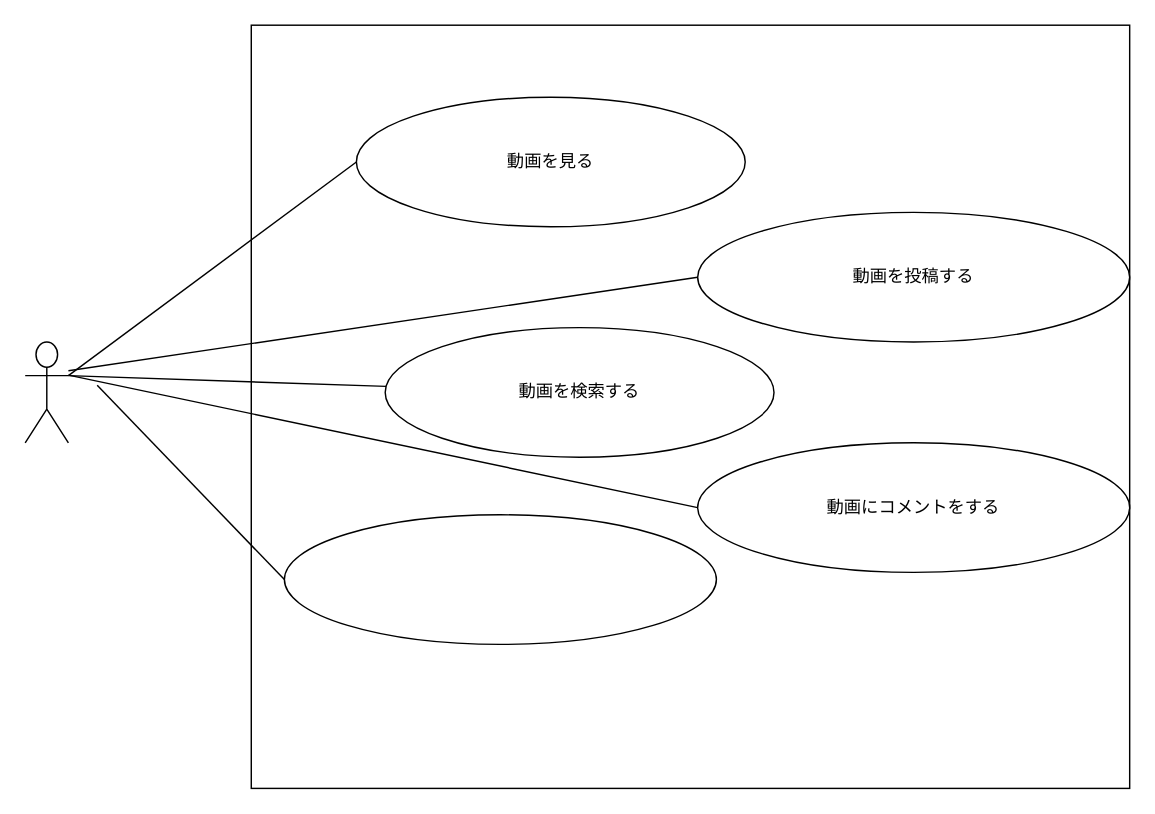
This 1155x814 diagram has some shape labels left out. Each missing label, with the box of its shape:
動画に高評価・低評価をつける: (283, 513, 716, 644)
ﾕｰｻﾞ: (24, 341, 68, 443)
